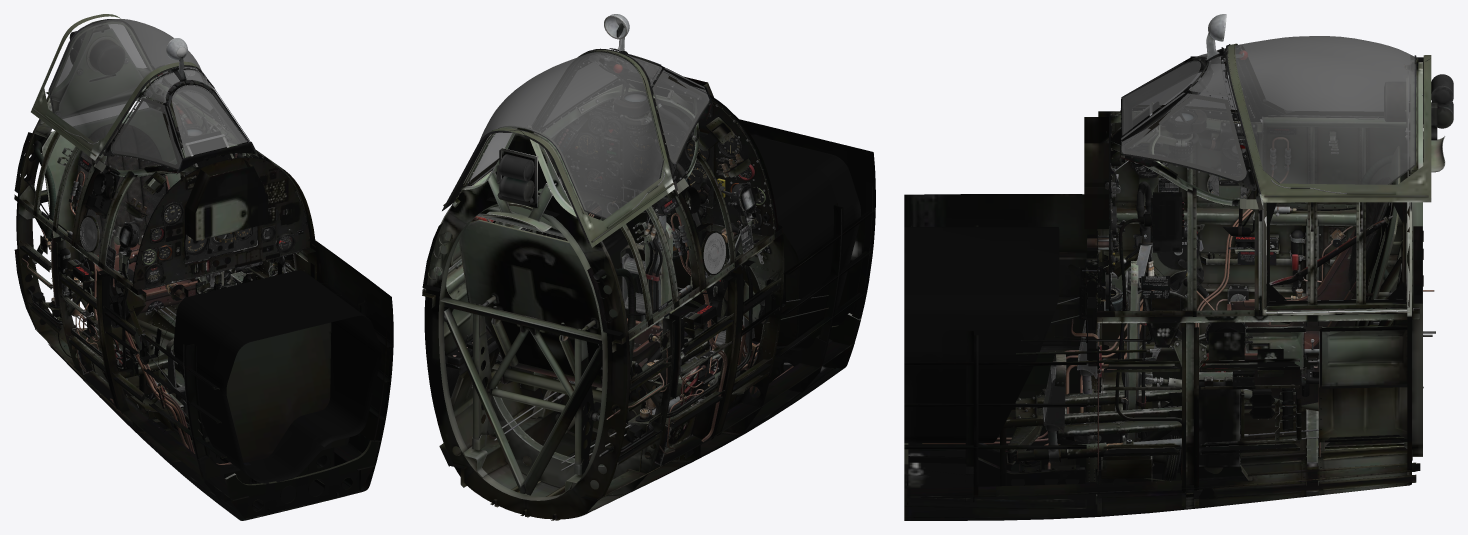
File: warbird.glb
3 renders of one model, left to right at view 1: azimuth 30°, elevation 25°; view 2: azimuth 150°, elevation 25°; view 3: azimuth 270°, elevation 25°, orthographic. The views are drawn at different scales.
Visible parts, largest first — view 1: Object_18, Object_22, Object_152, Object_13, Object_57, Object_53, Object_23, Object_214, Object_356, Object_82; view 2: Object_18, Object_22, Object_13, Object_57, Object_155, Object_152, Object_82, Object_23, Object_332, Object_268; view 3: Object_18, Object_22, Object_13, Object_152, Object_155, Object_57, Object_23, Object_82.
Boxes of the visible parts, box(x1,y1,x2,y2) form: Object_18: box(14, 19, 393, 520); Object_22: box(50, 19, 249, 168); Object_152: box(75, 123, 198, 313); Object_13: box(31, 14, 199, 160); Object_57: box(41, 157, 277, 361); Object_53: box(185, 131, 231, 167); Object_23: box(113, 21, 214, 168); Object_214: box(207, 231, 236, 254); Object_356: box(161, 202, 183, 225); Object_82: box(175, 117, 208, 176); Object_18: box(422, 14, 875, 520); Object_22: box(469, 52, 709, 217); Object_13: box(443, 50, 674, 247); Object_57: box(450, 97, 771, 384); Object_155: box(643, 161, 685, 358); Object_152: box(500, 318, 662, 403); Object_82: box(614, 78, 655, 145); Object_23: box(468, 57, 707, 184); Object_332: box(588, 106, 621, 141); Object_268: box(575, 133, 599, 158); Object_18: box(904, 14, 1453, 520); Object_22: box(1121, 36, 1414, 184); Object_13: box(1227, 43, 1431, 202); Object_152: box(1227, 178, 1392, 405); Object_155: box(1120, 181, 1154, 466); Object_57: box(1097, 128, 1347, 343); Object_23: box(1125, 46, 1413, 180); Object_82: box(1166, 93, 1205, 165).
Bounding box in the file's own units: 0.8451 × 1.68 × 1.77.
34 materials, 31 textured.
